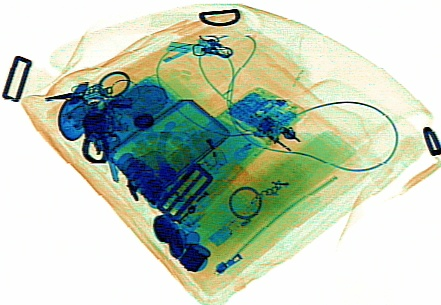lighter: (175, 162, 247, 230), (183, 115, 227, 167)
